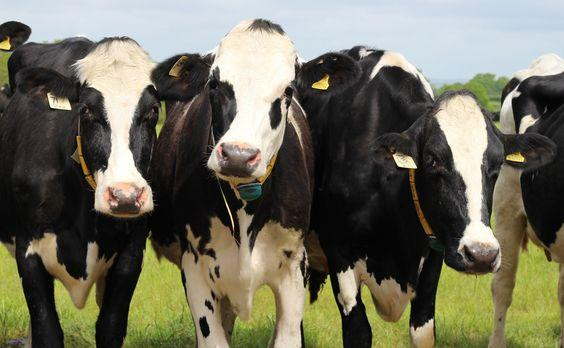cow: (10, 16, 207, 321)
